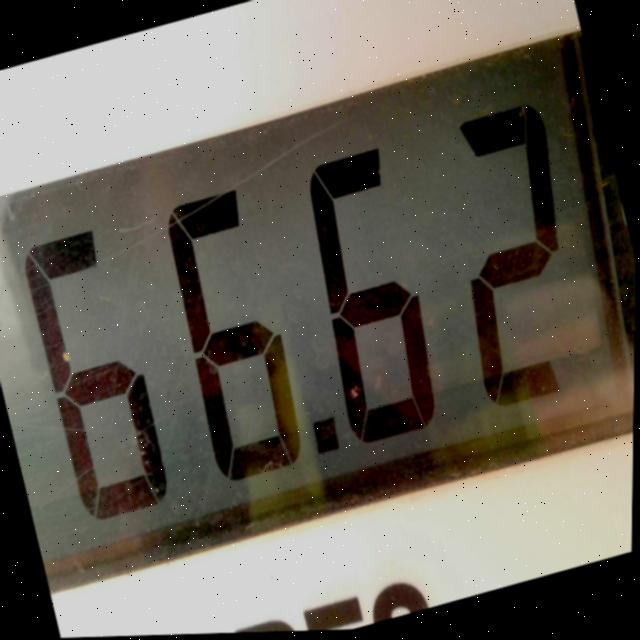.: (289, 392, 354, 485)
2: (409, 85, 611, 425)
6: (0, 206, 192, 535), (132, 163, 318, 502), (272, 124, 454, 461)
